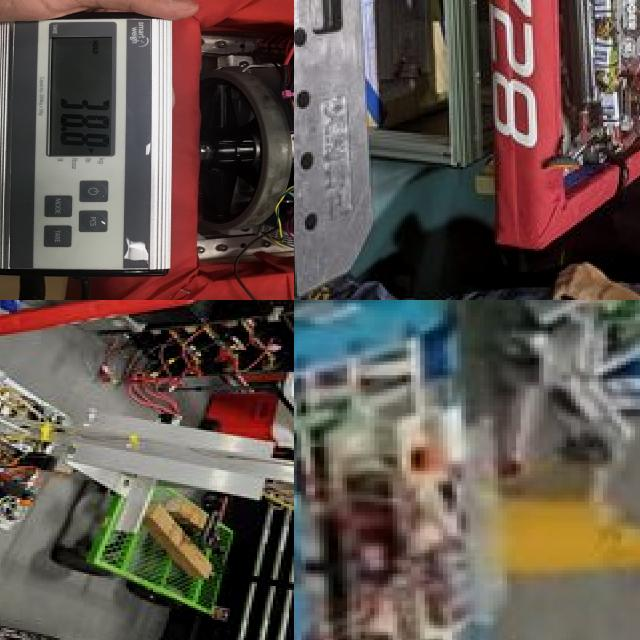FRC-Robots: (294, 300, 522, 640), (38, 0, 294, 300), (0, 338, 294, 578), (452, 0, 640, 300)
